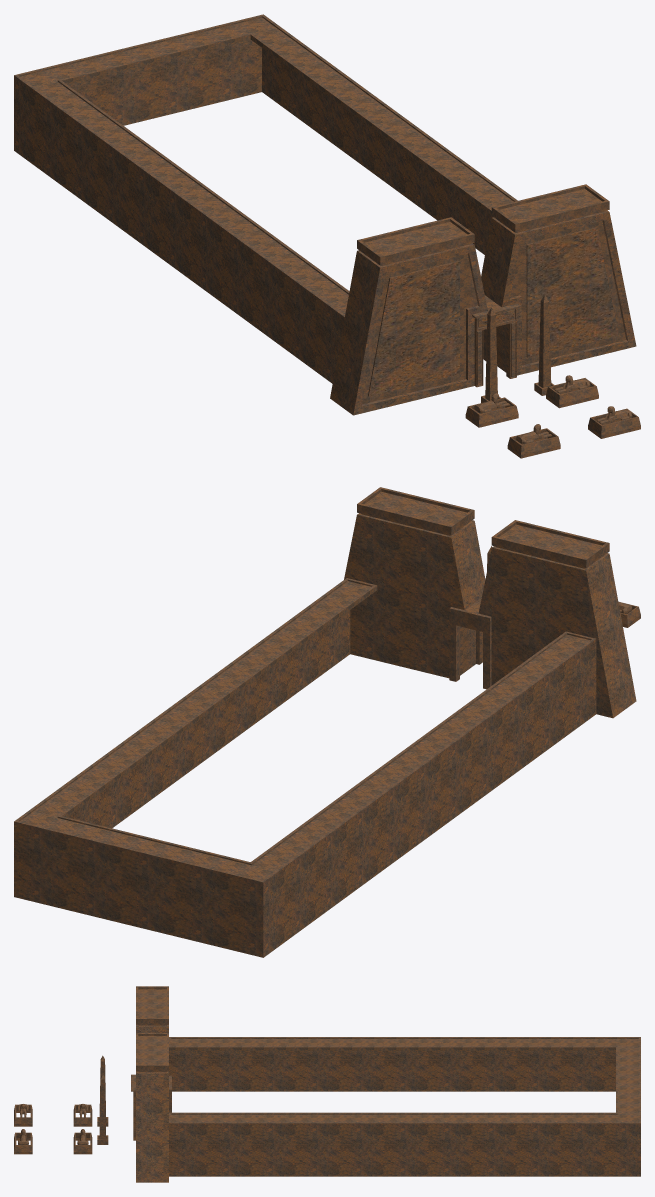
Rendered from Old Structures3.fbx.
3 views of the same model, one above another, from view 1: azimuth 30°, elevation 25°; view 2: azimuth 150°, elevation 25°; view 3: azimuth 270°, elevation 25° (orthographic). The views are drawn at different scales.
Parts seen in each view (by area): view 1: Material2.001, Material2.002, Material2.004, Material3.001, Material2.003, Material2.015; view 2: Material2.001, Material2.002, Material3.001, Material2.003; view 3: Material2.001, Material2.002, Material3.001, Material2.015, Material2.003.
Part boxes in pixels (left/top/right/bottom): Material2.001: left=14, top=39, right=636, bottom=415; Material2.002: left=20, top=17, right=626, bottom=404; Material2.004: left=368, top=228, right=618, bottom=396; Material3.001: left=14, top=14, right=609, bottom=396; Material2.003: left=478, top=303, right=549, bottom=399; Material2.015: left=534, top=301, right=554, bottom=395; Material2.001: left=14, top=513, right=636, bottom=957; Material2.002: left=20, top=491, right=601, bottom=880; Material3.001: left=14, top=487, right=609, bottom=882; Material2.003: left=460, top=555, right=490, bottom=675; Material2.001: left=136, top=1025, right=640, bottom=1182; Material2.002: left=138, top=989, right=638, bottom=1122; Material3.001: left=131, top=986, right=640, bottom=1140; Material2.015: left=97, top=1079, right=108, bottom=1144; Material2.003: left=99, top=1062, right=105, bottom=1139.
Size of the model in its own units: 82677 by 42323 by 223622.
Materials: 6 (6 with a texture image).
